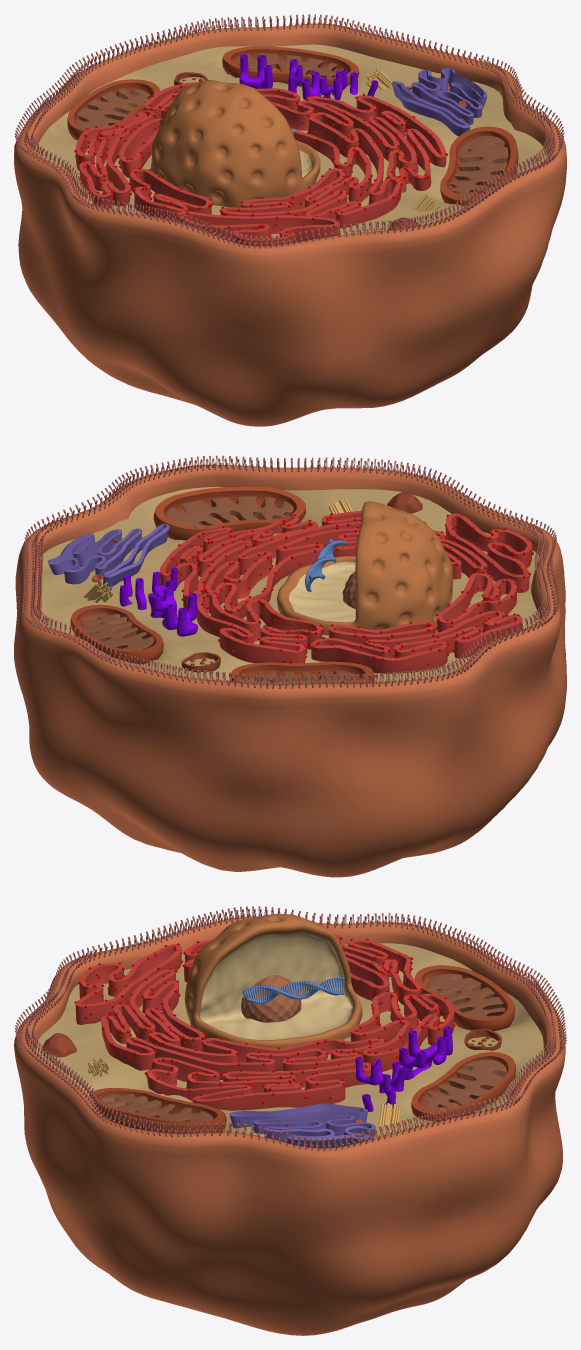
Rendered from human_cell.glb.
The picture shows the model from 3 angles, top to bottom: view 1: azimuth 30°, elevation 25°; view 2: azimuth 150°, elevation 25°; view 3: azimuth 270°, elevation 25°; orthographic projection. The views are drawn at different scales.
Visible parts, largest first — view 1: Base_2, Retic_15, Core_3, Vors_5, MITOH_4, GojB_9, Icosphere.001_16, Smooth Re_13, Centros_11; view 2: Base_2, Retic_15, Core_3, MITOH_4, Vors_5, GojB_9, Icosphere.001_16, Smooth Re_13, DNA_0, Centros_11, Lyb.001_14, Lyb_12; view 3: Base_2, Retic_15, Core_3, MITOH_4, Vors_5, GojB_9, Smooth Re_13, Icosphere.001_16, DNA_0, Centros_11, Lyb_12, Lyb.001_14.
Boxes of the visible parts, left/top/right/bottom form: Base_2: left=14, top=23, right=566, bottom=426; Retic_15: left=75, top=82, right=446, bottom=246; Core_3: left=150, top=80, right=320, bottom=207; Vors_5: left=14, top=14, right=564, bottom=248; MITOH_4: left=67, top=46, right=518, bottom=205; GojB_9: left=391, top=67, right=487, bottom=136; Icosphere.001_16: left=74, top=85, right=447, bottom=245; Smooth Re_13: left=239, top=54, right=378, bottom=100; Centros_11: left=365, top=68, right=440, bottom=212; Base_2: left=14, top=465, right=566, bottom=877; Retic_15: left=159, top=511, right=532, bottom=673; Core_3: left=277, top=501, right=452, bottom=635; MITOH_4: left=70, top=486, right=374, bottom=684; Vors_5: left=22, top=455, right=560, bottom=688; GojB_9: left=47, top=524, right=169, bottom=588; Icosphere.001_16: left=160, top=513, right=534, bottom=666; Smooth Re_13: left=119, top=567, right=197, bottom=636; DNA_0: left=305, top=539, right=346, bottom=591; Centros_11: left=83, top=498, right=352, bottom=602; Lyb.001_14: left=181, top=652, right=220, bottom=672; Lyb_12: left=387, top=492, right=422, bottom=513; Base_2: left=14, top=916, right=565, bottom=1335; Retic_15: left=75, top=934, right=454, bottom=1110; Core_3: left=184, top=914, right=362, bottom=1048; MITOH_4: left=89, top=965, right=515, bottom=1133; Vors_5: left=15, top=906, right=566, bottom=1151; GojB_9: left=229, top=1103, right=376, bottom=1148; Smooth Re_13: left=355, top=1026, right=452, bottom=1111; Icosphere.001_16: left=74, top=937, right=455, bottom=1104; DNA_0: left=242, top=976, right=344, bottom=1003; Centros_11: left=87, top=1057, right=400, bottom=1128; Lyb_12: left=42, top=1033, right=76, bottom=1057; Lyb.001_14: left=464, top=1028, right=501, bottom=1050.
Bounding box in the file's own units: 1.9 × 1.21 × 1.85.
